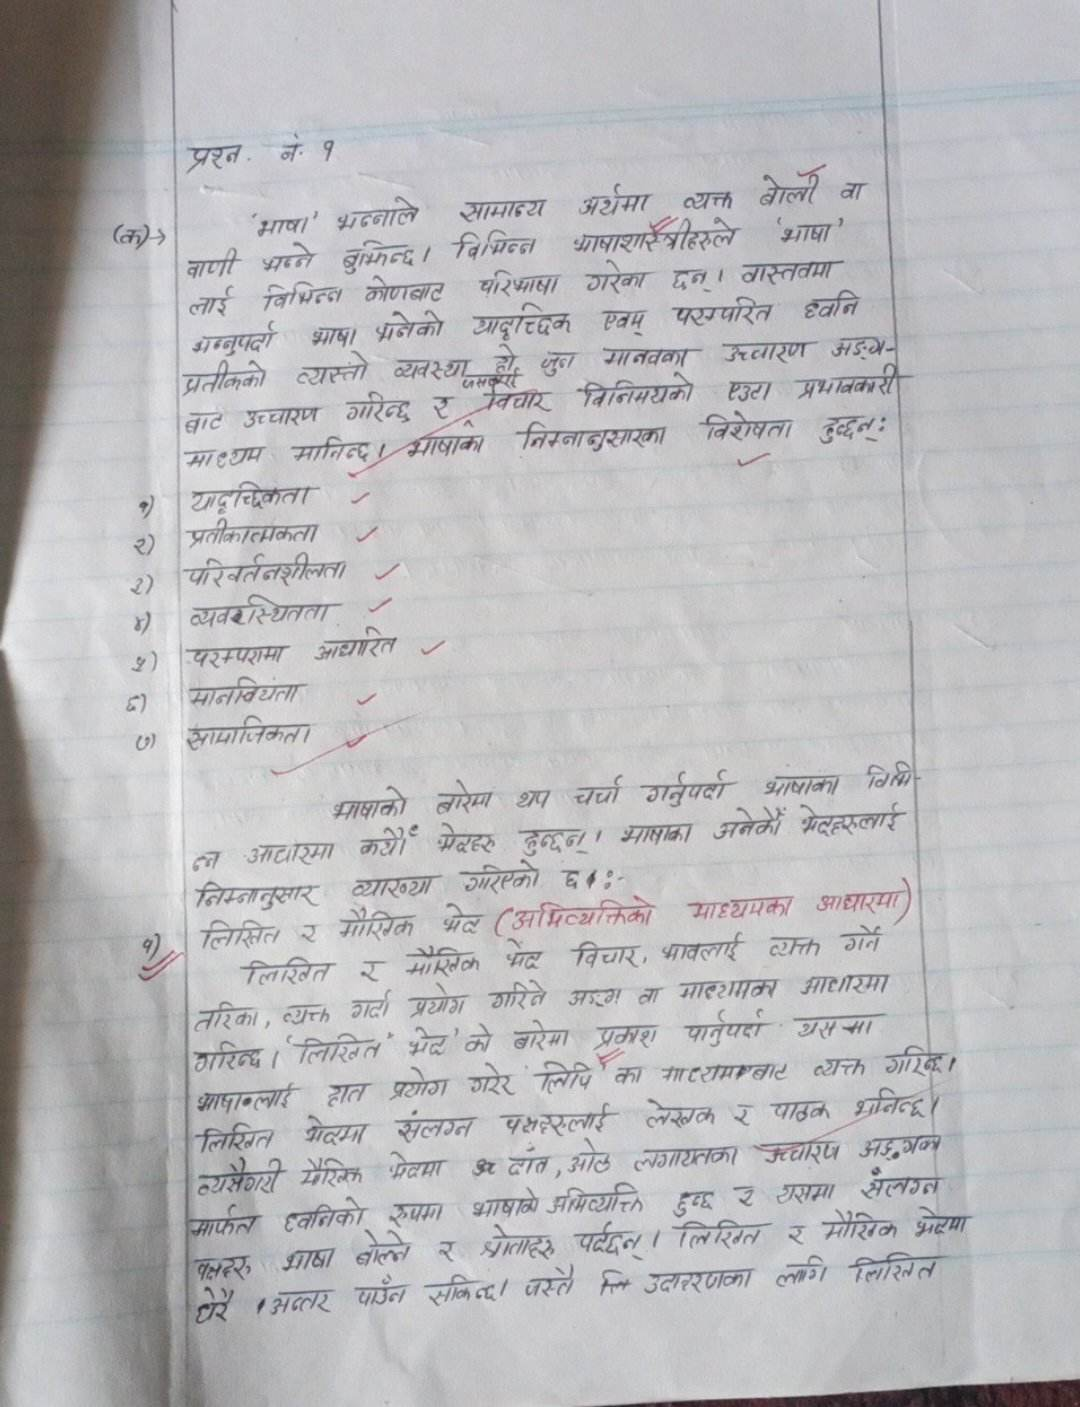text: (568, 217, 740, 255), (183, 551, 353, 585), (511, 895, 657, 934), (516, 418, 669, 453), (185, 592, 341, 626), (182, 714, 314, 753), (184, 478, 315, 517), (495, 1100, 616, 1141), (189, 878, 322, 915), (569, 374, 698, 411), (798, 798, 908, 840), (469, 300, 573, 342), (186, 519, 322, 549), (653, 1058, 788, 1088), (185, 673, 303, 707), (849, 1249, 940, 1292), (798, 364, 900, 403), (186, 1156, 282, 1197), (633, 769, 734, 808), (189, 1080, 303, 1114), (627, 1141, 744, 1174), (542, 1182, 650, 1218), (276, 1194, 370, 1233), (642, 1267, 760, 1298), (311, 623, 402, 663), (681, 1006, 768, 1047), (669, 294, 774, 328), (857, 1165, 951, 1203), (476, 1222, 559, 1264), (193, 917, 282, 955), (672, 1218, 763, 1255), (452, 225, 540, 263), (182, 359, 270, 397), (576, 1218, 651, 1263), (784, 1005, 880, 1040), (405, 941, 486, 981), (659, 928, 744, 967), (636, 1092, 722, 1130), (702, 408, 795, 444), (261, 273, 348, 311), (686, 894, 795, 924), (852, 1082, 933, 1122), (335, 194, 420, 231), (236, 953, 332, 986), (185, 1200, 267, 1239), (466, 1183, 543, 1224), (298, 1033, 383, 1069), (330, 908, 417, 943), (853, 1131, 945, 1164), (424, 1270, 500, 1309), (189, 322, 278, 356), (813, 886, 902, 920), (289, 431, 374, 466), (675, 974, 781, 1002), (824, 1206, 901, 1245), (339, 238, 417, 276), (330, 785, 408, 823), (341, 386, 415, 426), (463, 858, 543, 894), (476, 266, 565, 298), (183, 640, 289, 667), (583, 256, 653, 297), (709, 807, 791, 842), (195, 1119, 273, 1155), (457, 195, 549, 226), (431, 817, 499, 858), (299, 1111, 369, 1151), (349, 873, 442, 902), (433, 776, 498, 818), (795, 972, 898, 999), (373, 309, 447, 345), (360, 276, 447, 306), (733, 261, 839, 286), (577, 182, 650, 218), (192, 1040, 263, 1077), (761, 1136, 843, 1168), (293, 1156, 369, 1190), (393, 1111, 476, 1141), (761, 770, 842, 802), (881, 1042, 947, 1080), (380, 1147, 452, 1182), (722, 339, 813, 367), (408, 983, 470, 1023), (567, 775, 631, 814), (486, 380, 552, 416), (242, 842, 335, 868), (265, 1288, 338, 1321), (403, 430, 490, 457), (803, 286, 864, 325), (757, 174, 824, 209), (193, 999, 260, 1034), (516, 823, 588, 856), (486, 978, 550, 1014), (613, 819, 694, 848), (385, 1065, 450, 1101), (288, 357, 372, 385), (393, 355, 473, 384), (513, 1019, 575, 1055), (574, 938, 640, 972), (189, 1252, 258, 1284), (355, 1231, 414, 1269), (773, 1176, 838, 1208), (183, 443, 265, 469), (819, 413, 878, 449), (600, 344, 694, 367), (914, 1199, 969, 1238), (773, 1252, 830, 1288), (538, 1059, 597, 1094), (238, 406, 324, 430), (765, 930, 825, 964), (353, 1275, 411, 1311), (182, 140, 243, 172), (360, 825, 419, 859), (191, 1283, 236, 1328), (465, 1058, 513, 1100), (500, 1141, 551, 1180), (382, 1198, 448, 1228), (763, 1097, 834, 1124), (564, 1138, 615, 1176), (258, 242, 318, 273), (593, 1023, 660, 1052), (832, 332, 889, 364), (523, 1266, 575, 1301), (860, 759, 916, 792), (323, 1076, 373, 1112), (718, 374, 777, 405), (407, 1023, 452, 1064), (594, 307, 649, 340), (275, 1001, 335, 1030), (185, 248, 238, 281), (281, 1242, 335, 1274), (188, 284, 235, 320), (564, 984, 624, 1011), (343, 991, 393, 1022), (813, 1052, 867, 1081), (670, 266, 718, 298), (440, 900, 483, 936), (839, 917, 883, 953), (669, 1183, 715, 1218), (253, 214, 314, 238), (682, 188, 736, 214), (461, 1020, 498, 1058), (307, 325, 361, 349), (731, 1178, 770, 1211), (781, 224, 835, 247), (182, 406, 225, 436), (506, 940, 542, 974), (539, 351, 577, 381), (609, 1060, 643, 1089), (493, 342, 522, 377), (186, 848, 223, 874), (275, 135, 305, 166), (781, 1218, 809, 1250), (113, 224, 149, 250), (292, 919, 326, 945), (357, 957, 388, 985), (432, 1235, 459, 1266), (513, 789, 555, 809), (427, 391, 452, 423), (728, 1098, 752, 1131), (836, 176, 866, 202), (633, 983, 665, 1006), (560, 869, 585, 892), (132, 730, 152, 755), (322, 135, 339, 165), (129, 572, 146, 599), (123, 692, 141, 711), (140, 935, 157, 955), (128, 541, 150, 557), (132, 614, 146, 637), (133, 495, 152, 512), (129, 652, 146, 672)
